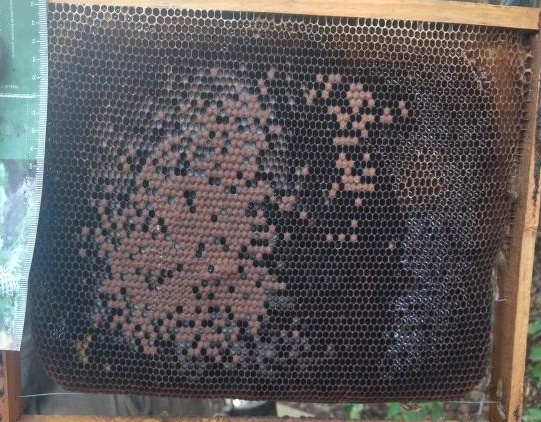cria: (72, 56, 410, 388)
